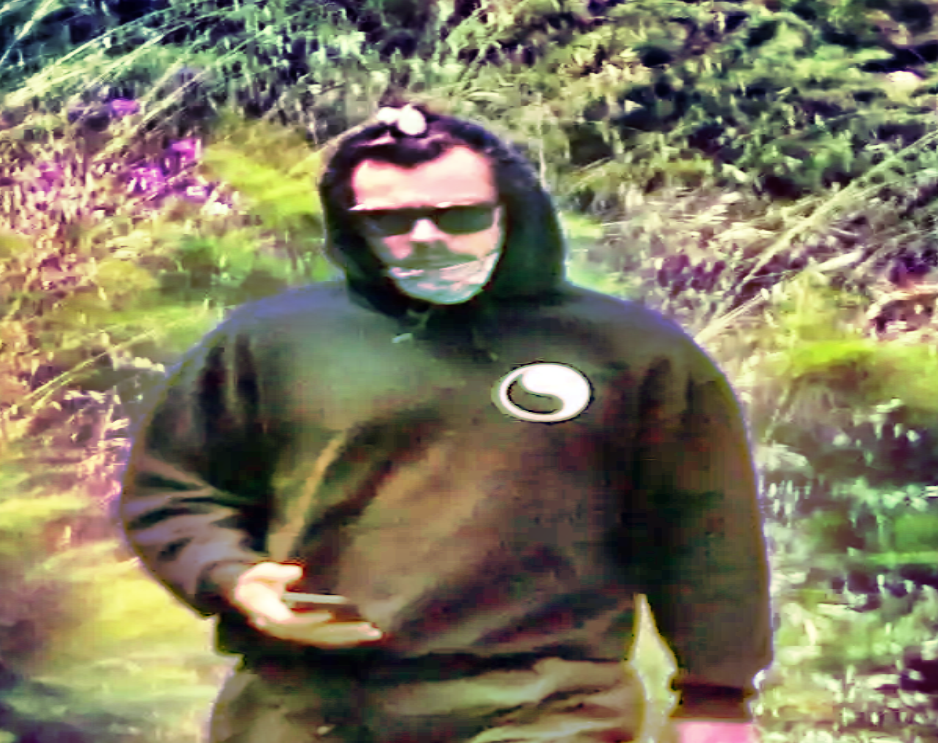mask_weared_incorrect: (321, 126, 536, 312)
